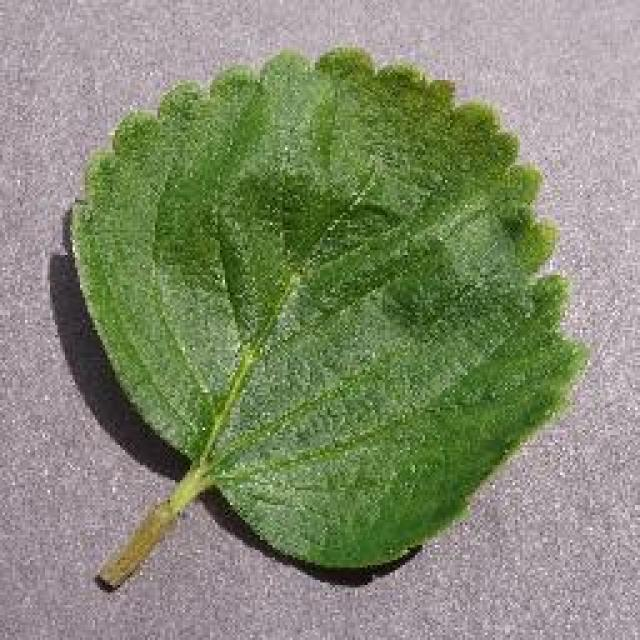Strawberry___healthy: (58, 22, 602, 612)
